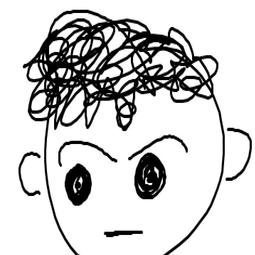ear: (220, 126, 254, 185), (12, 147, 46, 200)
eye: (130, 152, 174, 202), (62, 162, 92, 211)
eyebrow: (55, 136, 119, 167), (125, 134, 195, 162)
line_unsmiling_mouth: (99, 222, 151, 243)
